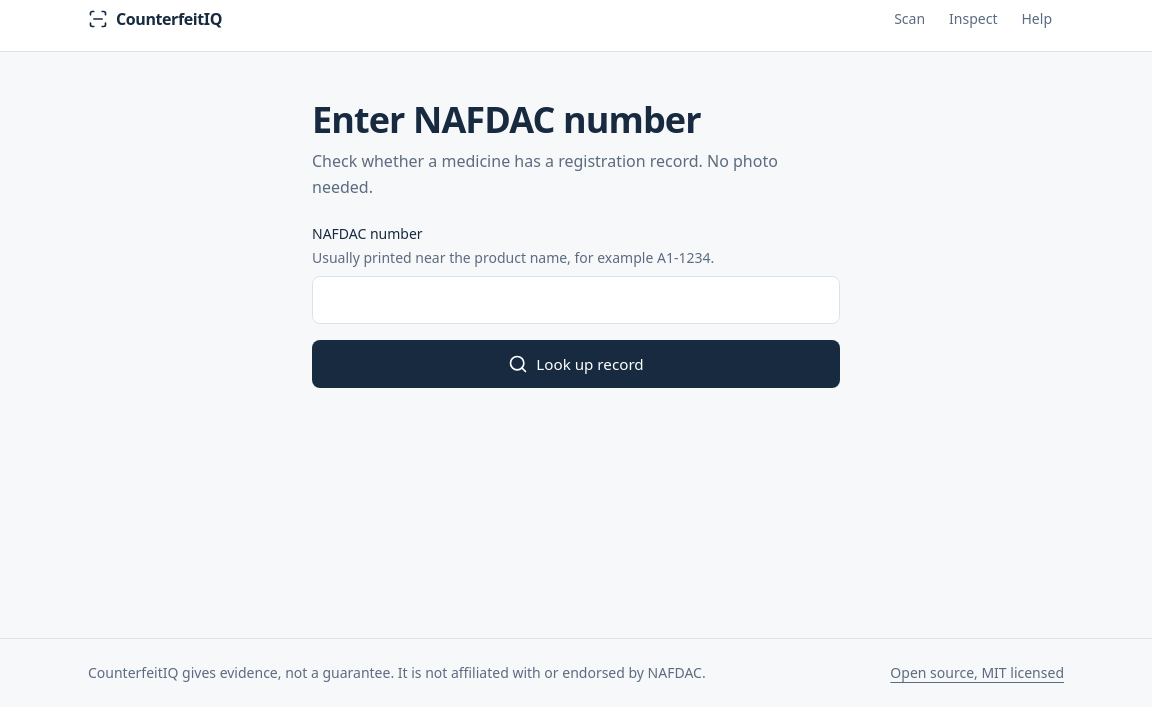
Test: manual lookup › labels a fixture as a demonstration, not a registration record
Type "A1-123456" into the field labelled "NAFDAC number" at (576,300), box [312,276,840,324]
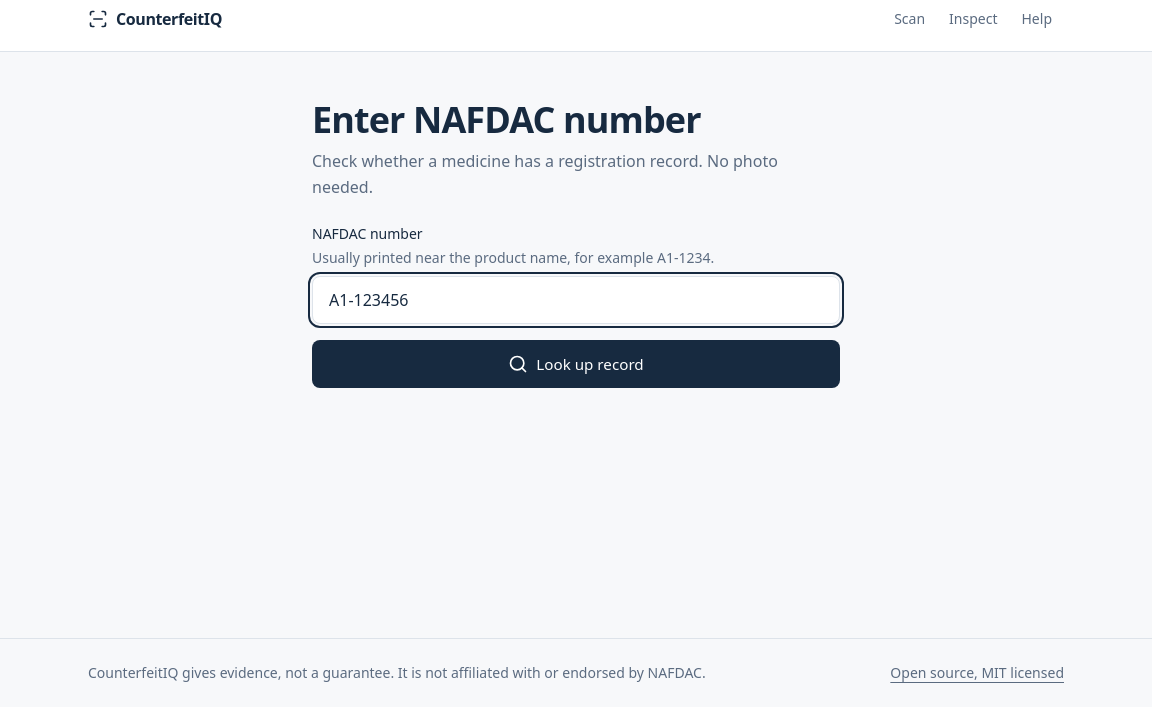
Click the button "Look up record" at (576,364), box [312,340,840,388]
(page scrolled)
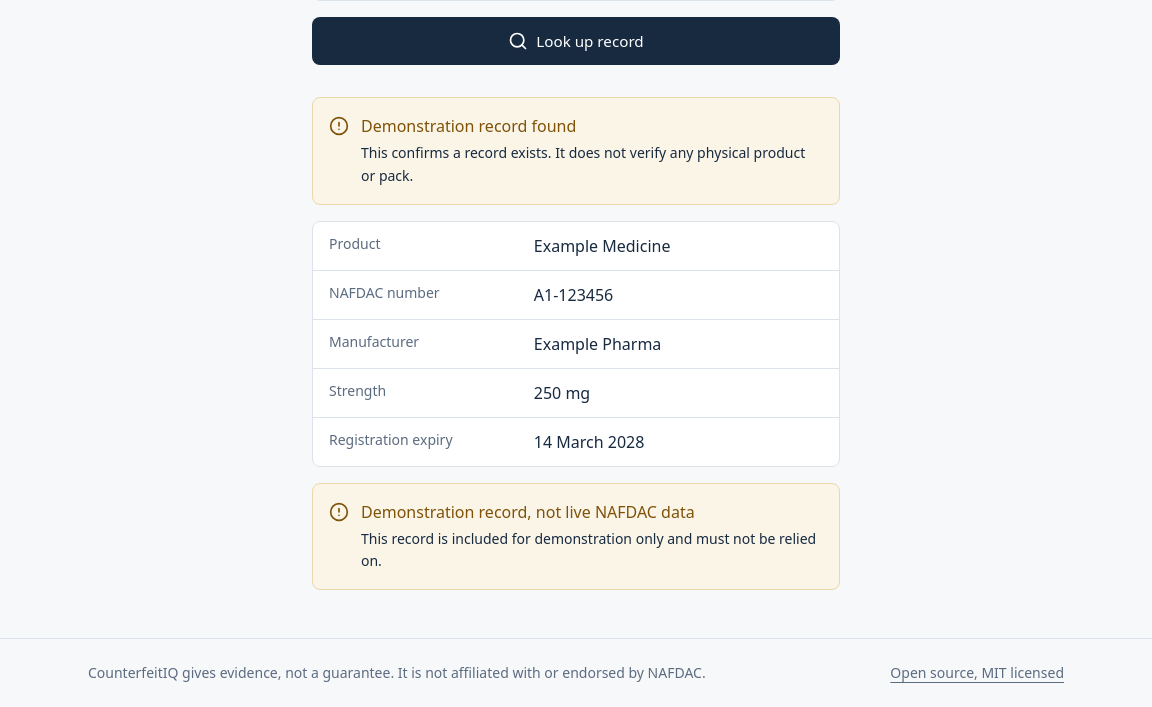
Expected: the text "Demonstration record found" is shown, [361,115,576,137]
Expected: the text "Demonstration record, not live NAFDAC data" is shown, [361,500,695,522]
